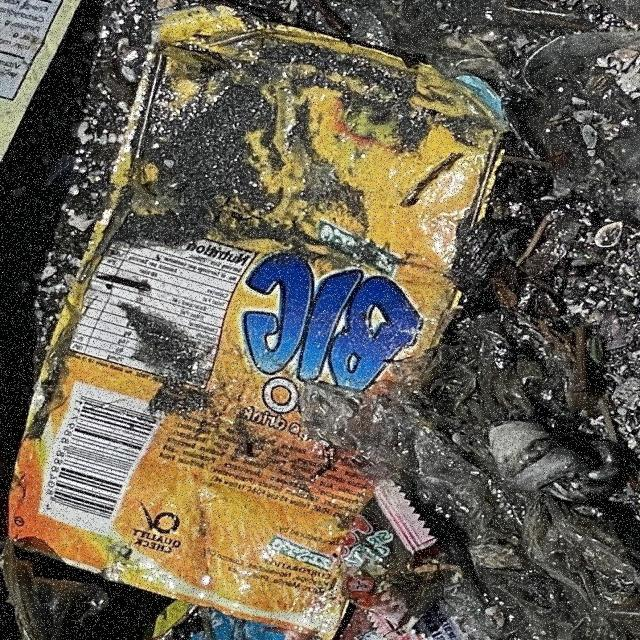plastic_waste: (1, 2, 517, 638)
